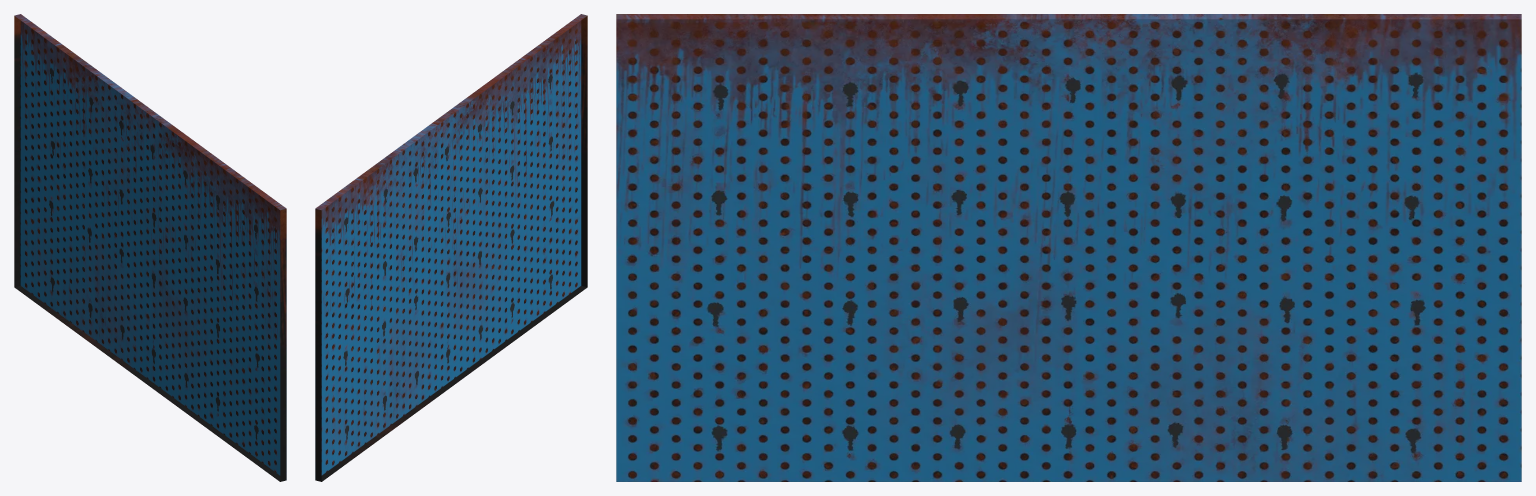
Rendered from tool_storage_board.opt.glb.
3 views of the same model, side by side, from view 1: azimuth 30°, elevation 25°; view 2: azimuth 150°, elevation 25°; view 3: azimuth 270°, elevation 25° (orthographic). The views are drawn at different scales.
Visible parts, largest first — view 1: defaultMaterial; view 2: defaultMaterial; view 3: defaultMaterial.
Boxes of the visible parts, x1,y1,x2,y2 form: defaultMaterial: [14, 14, 286, 481]; defaultMaterial: [315, 14, 587, 481]; defaultMaterial: [616, 14, 1521, 481].
Bounding box in the file's own units: 3.22 × 126 × 224.
1 material, 1 textured.
